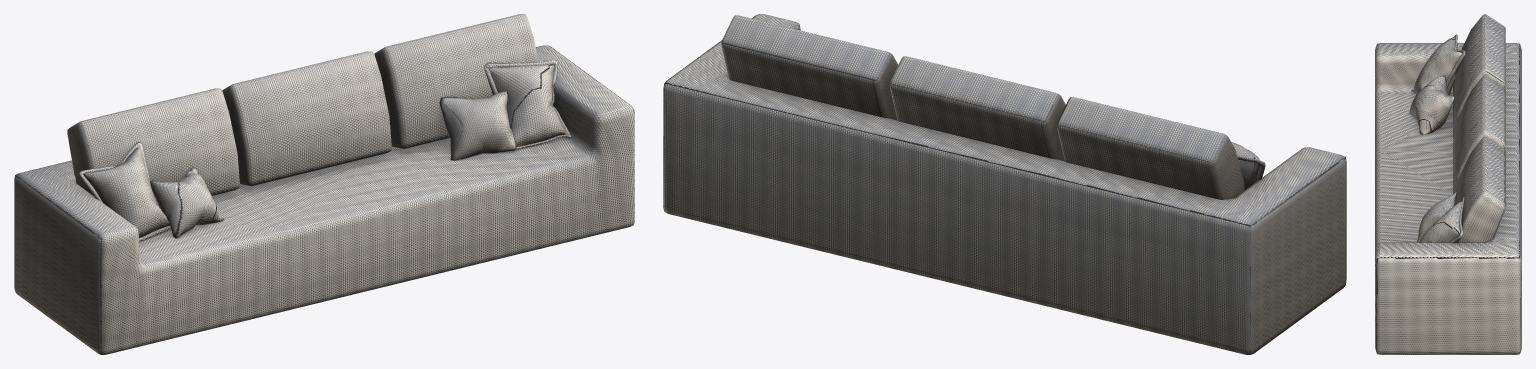
The model's file is Sofa.glb.
3 renders of one model, left to right at view 1: azimuth 30°, elevation 25°; view 2: azimuth 150°, elevation 25°; view 3: azimuth 270°, elevation 25°, orthographic. The views are drawn at different scales.
Visible parts, largest first — view 1: Rectangle001; view 2: Rectangle001; view 3: Rectangle001.
Part boxes in pixels (box(x1,y1,x2,y2)): Rectangle001: box(14, 14, 634, 354); Rectangle001: box(663, 14, 1346, 354); Rectangle001: box(1375, 14, 1521, 354).
Bounding box in the file's own units: 2.46 × 0.7733 × 0.7047.
Materials: 1 (1 with a texture image).
